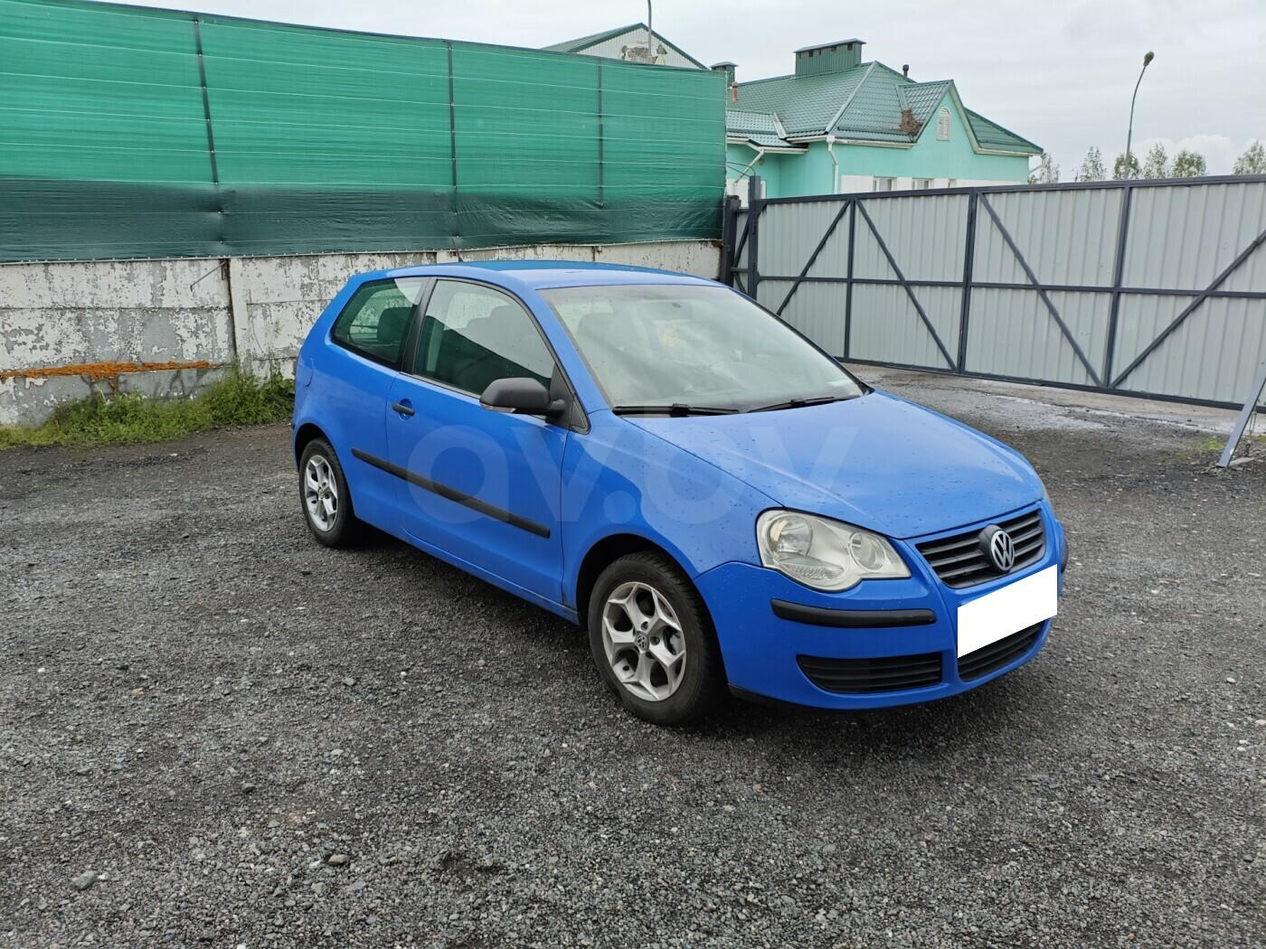Polo_2005-2009: (282, 244, 1074, 760)
